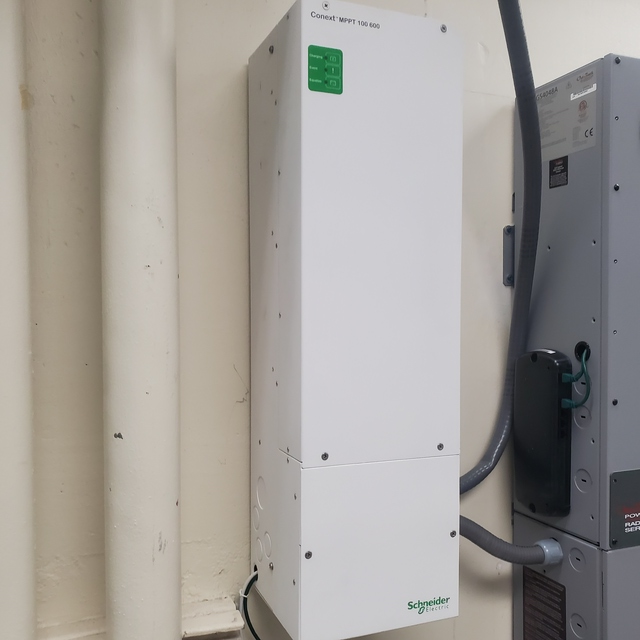charge_controller: (239, 1, 468, 635)
